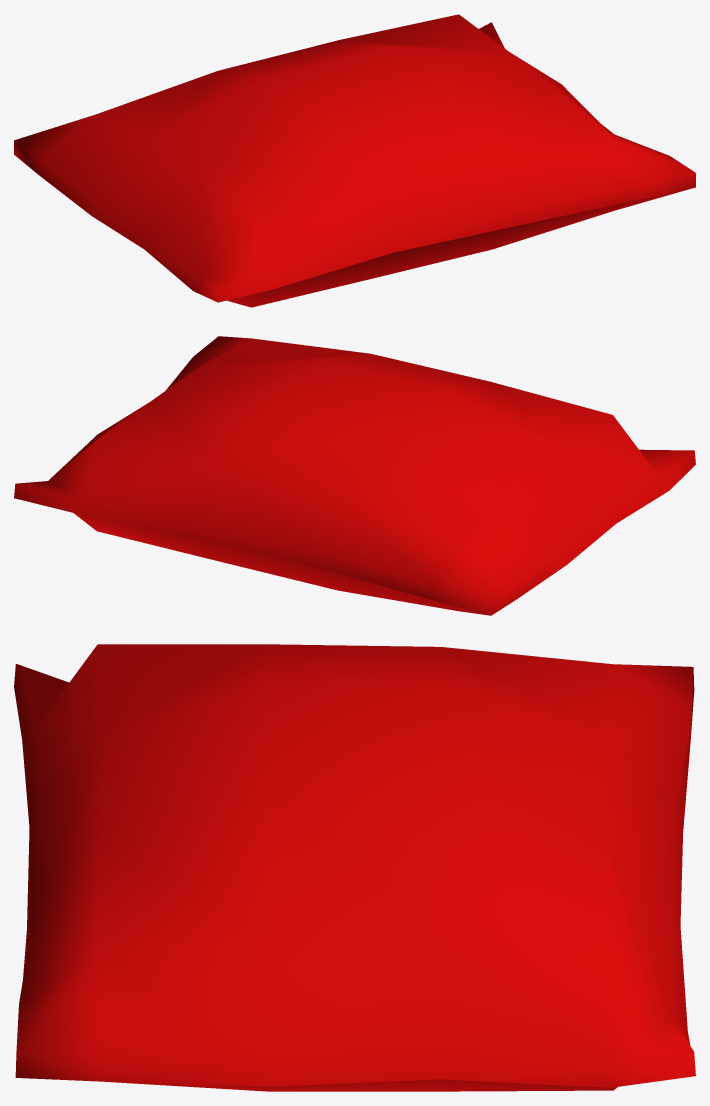
Rendered from Attic_Pillow_01_LP.glb.
3 renders of one model, top to bottom at view 1: azimuth 30°, elevation 25°; view 2: azimuth 150°, elevation 25°; view 3: azimuth 270°, elevation 25°, orthographic. The views are drawn at different scales.
Parts seen in each view (by area): view 1: Attic_Pillow_01_LP; view 2: Attic_Pillow_01_LP; view 3: Attic_Pillow_01_LP.
Part boxes in pixels (x1,y1,x2,y2): Attic_Pillow_01_LP: [14, 14, 695, 307]; Attic_Pillow_01_LP: [14, 336, 695, 615]; Attic_Pillow_01_LP: [14, 644, 695, 1091].
Size of the model in its own units: 1.01 by 0.2548 by 0.7485.
